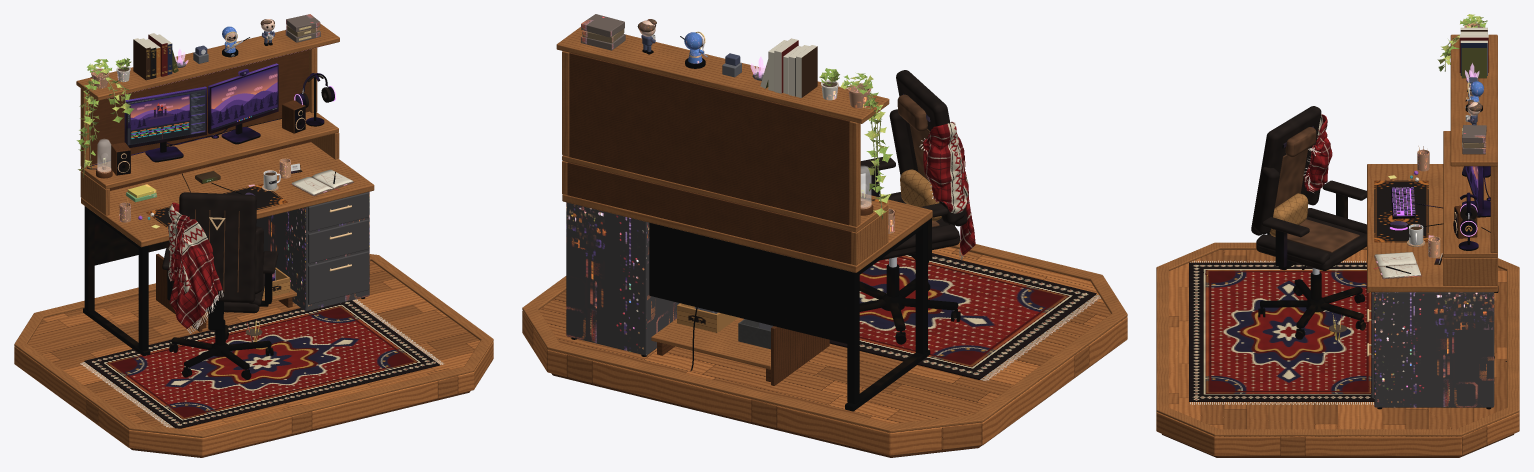
The model's file is studio_desk.glb.
The picture shows the model from 3 angles, left to right: view 1: azimuth 30°, elevation 25°; view 2: azimuth 150°, elevation 25°; view 3: azimuth 270°, elevation 25°; orthographic projection. The views are drawn at different scales.
Parts seen in each view (by area): view 1: STATIC_wood, BASE_Platform, BASE_Rug, STATIC_wood_dark, STATIC_metal_black, STATIC_leather, CHAIR_Blanket, DESK_Cabinet_Body, MON_L_Screen, MON_R_Screen, STATIC_plastic_black, DESK_Drawer_3 (+9 smaller); view 2: STATIC_wood_dark, BASE_Platform, STATIC_wood, STATIC_metal_black, BASE_Rug, DESK_Cabinet_Body, STATIC_leather, CHAIR_Blanket, STATIC_leather_brown, CHAIR_LumbarPillow, STATIC_game_box, NAV_GamesCrate_Body (+6 smaller); view 3: BASE_Rug, STATIC_wood, BASE_Platform, DESK_Cabinet_Body, STATIC_leather, STATIC_metal_black, STATIC_leather_brown, PROP_DeskMat, CHAIR_Blanket, STATIC_plastic_black, STATIC_wood_dark, CHAIR_LumbarPillow (+6 smaller).
Boxes of the visible parts, x1=… form: STATIC_wood: x1=14, y1=23, x2=493, y2=437; BASE_Platform: x1=14, y1=261, x2=493, y2=456; BASE_Rug: x1=84, y1=300, x2=439, y2=428; STATIC_wood_dark: x1=89, y1=49, x2=470, y2=457; STATIC_metal_black: x1=83, y1=123, x2=365, y2=369; STATIC_leather: x1=162, y1=192, x2=278, y2=313; CHAIR_Blanket: x1=168, y1=202, x2=222, y2=328; DESK_Cabinet_Body: x1=256, y1=192, x2=369, y2=311; MON_L_Screen: x1=127, y1=89, x2=205, y2=145; MON_R_Screen: x1=211, y1=66, x2=277, y2=130; STATIC_plastic_black: x1=117, y1=63, x2=305, y2=379; DESK_Drawer_3: x1=308, y1=251, x2=369, y2=304; STATIC_wood_dark: x1=551, y1=53, x2=981, y2=457; BASE_Platform: x1=522, y1=247, x2=1127, y2=455; STATIC_wood: x1=522, y1=27, x2=1127, y2=432; STATIC_metal_black: x1=571, y1=170, x2=958, y2=411; BASE_Rug: x1=829, y1=253, x2=1096, y2=379; DESK_Cabinet_Body: x1=566, y1=202, x2=679, y2=355; STATIC_leather: x1=860, y1=70, x2=967, y2=260; CHAIR_Blanket: x1=923, y1=121, x2=975, y2=255; STATIC_leather_brown: x1=897, y1=94, x2=939, y2=226; CHAIR_LumbarPillow: x1=900, y1=169, x2=941, y2=221; STATIC_game_box: x1=580, y1=14, x2=625, y2=50; NAV_GamesCrate_Body: x1=677, y1=303, x2=738, y2=332; BASE_Rug: x1=1189, y1=262, x2=1374, y2=401; STATIC_wood: x1=1156, y1=34, x2=1519, y2=436; BASE_Platform: x1=1156, y1=250, x2=1519, y2=455; DESK_Cabinet_Body: x1=1374, y1=292, x2=1494, y2=407; STATIC_leather: x1=1251, y1=106, x2=1366, y2=270; STATIC_metal_black: x1=1260, y1=166, x2=1498, y2=409; STATIC_leather_brown: x1=1274, y1=127, x2=1359, y2=252; PROP_DeskMat: x1=1374, y1=180, x2=1428, y2=242; CHAIR_Blanket: x1=1303, y1=114, x2=1332, y2=191; STATIC_plastic_black: x1=1258, y1=126, x2=1490, y2=339; STATIC_wood_dark: x1=1162, y1=146, x2=1513, y2=457; CHAIR_LumbarPillow: x1=1269, y1=193, x2=1308, y2=236.
Bounding box in the file's own units: 2.5 × 1.89 × 2.
90 materials, 33 textured.
